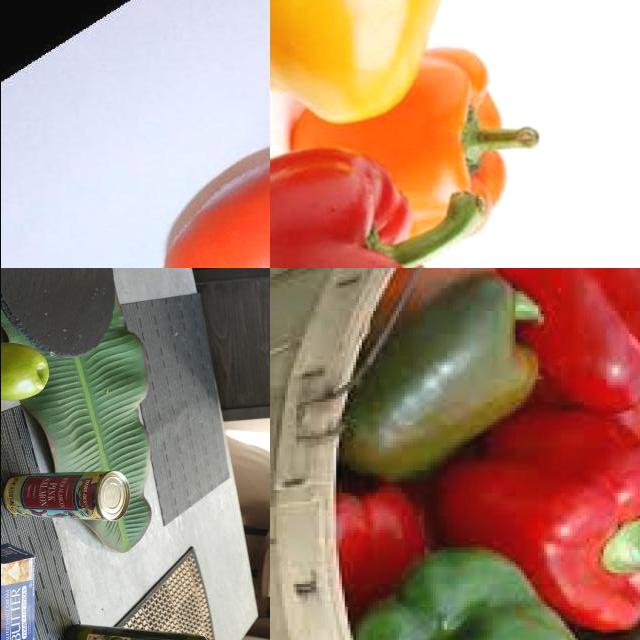bell_pepper: (286, 44, 542, 250), (339, 269, 555, 486), (270, 150, 491, 269), (344, 544, 601, 640), (270, 1, 450, 126)
tomato: (139, 127, 270, 269)
